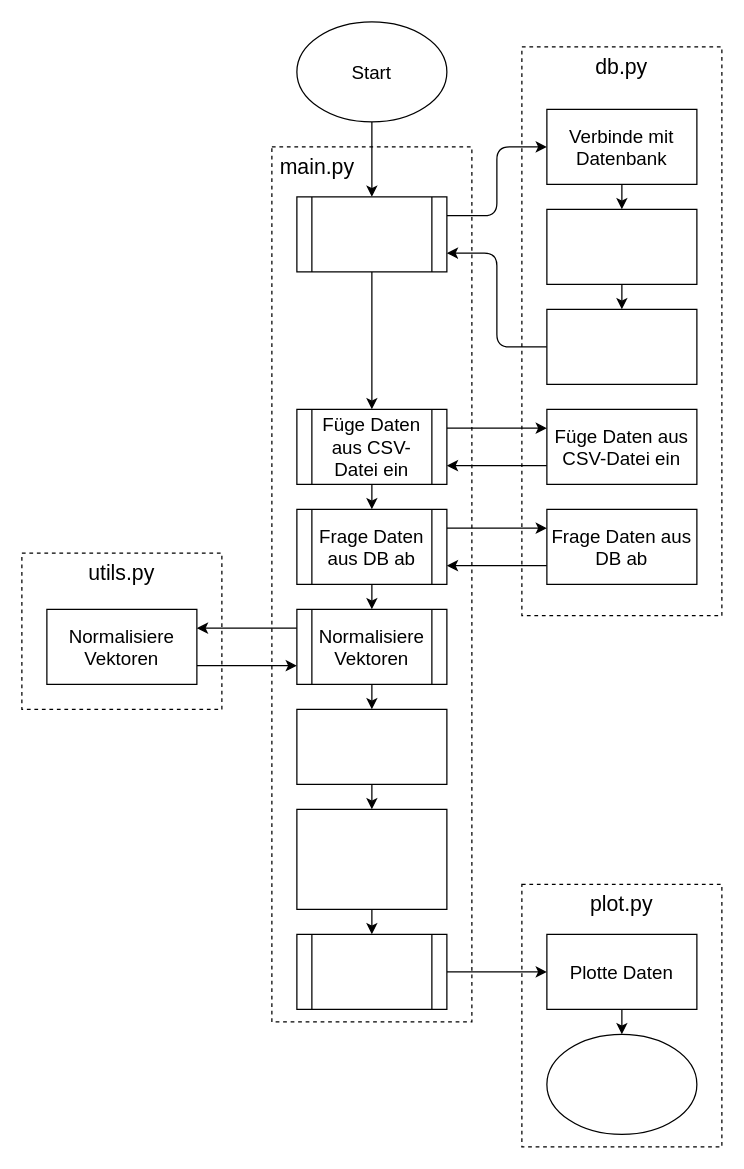
Some shapes in this 744 by 1169 pixel diagram are drawn without their labels. The shapes that lost their labels are listed below. From the top down, each one's centre as x and y in pixels, then its label:
pixel 371 234: Stelle Verbindung mit DB her
pixel 621 246: Integriere Extension "pgvector"
pixel 621 346: Erstelle Tabelle "songs"
pixel 371 746: Initialisiere Funktionen
pixel 371 858: Führe Dimensions-reduktion durch
pixel 371 971: Plotte Ergebnisse
pixel 621 1083: Stop
